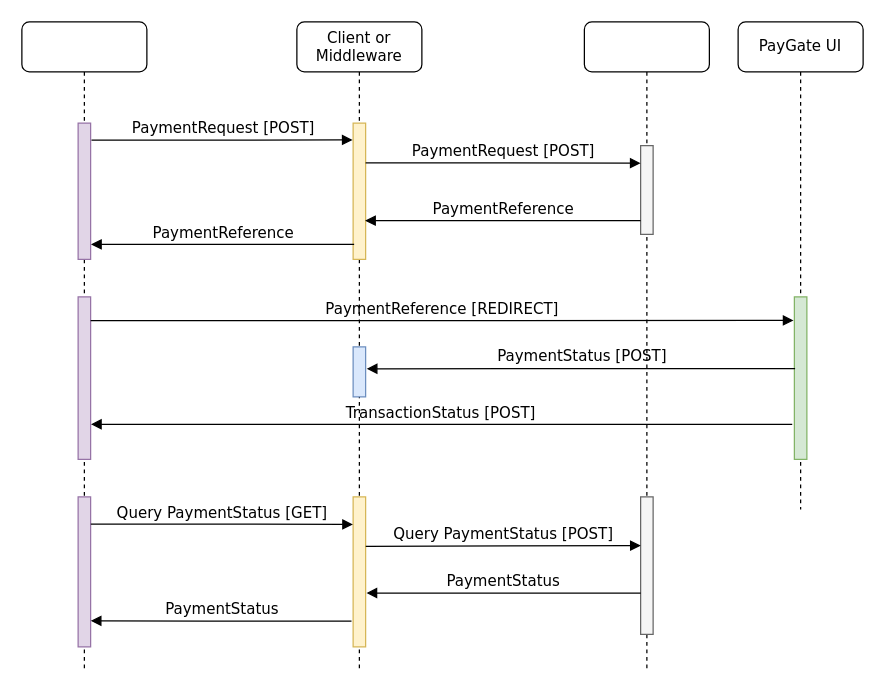
Image size: 885x694. Some labels were removed from this diagram. The box of each missing label's shape, as (x1, y1, x2, y2) in pixels:
Browser: (21, 21, 147, 672)
PayGate API: (583, 21, 709, 672)
